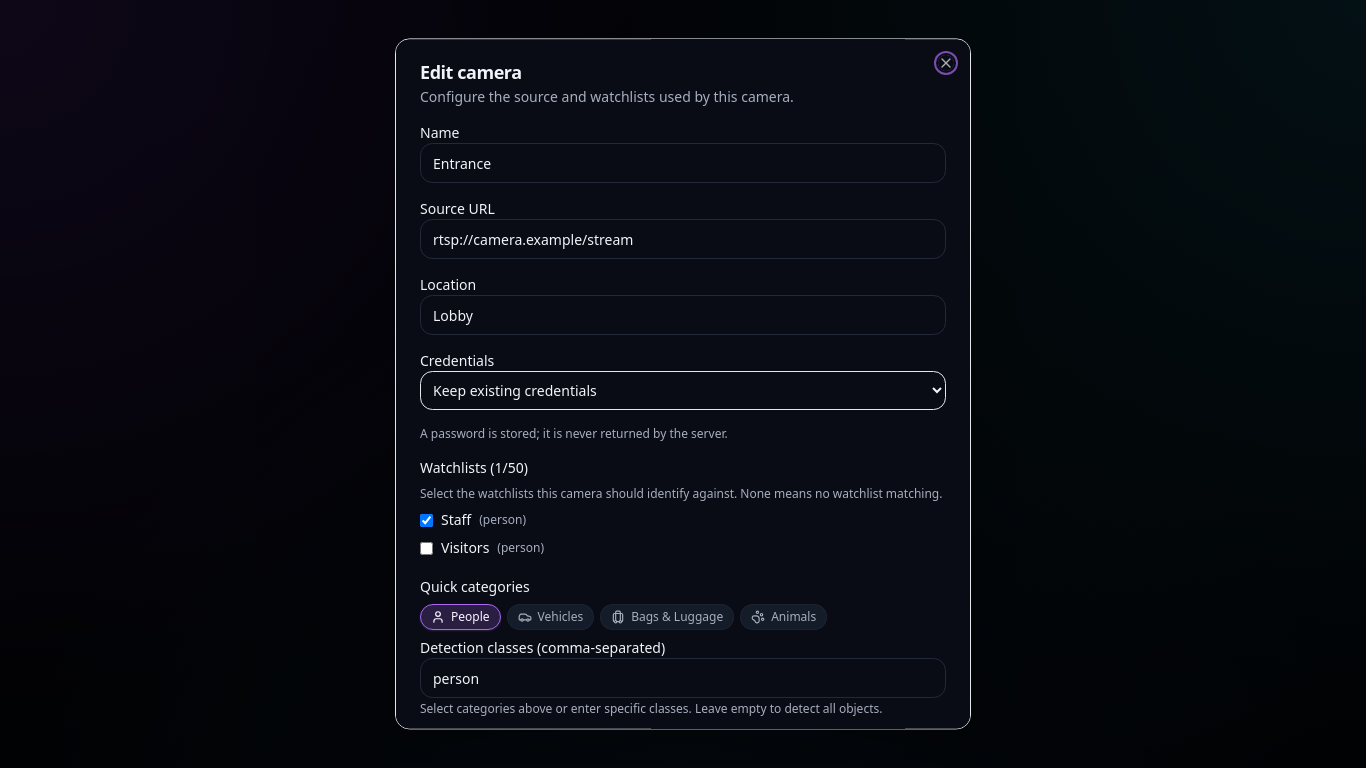
Test: rejects unsafe source file:///camera before mutation
Expected: the field labelled "Name" is shown, x1=420 y1=143 x2=946 y2=183
Replace the text in the field labelled "Source URL" with "file:///camera" at (683, 239), box x1=420 y1=219 x2=946 y2=259
(page scrolled)
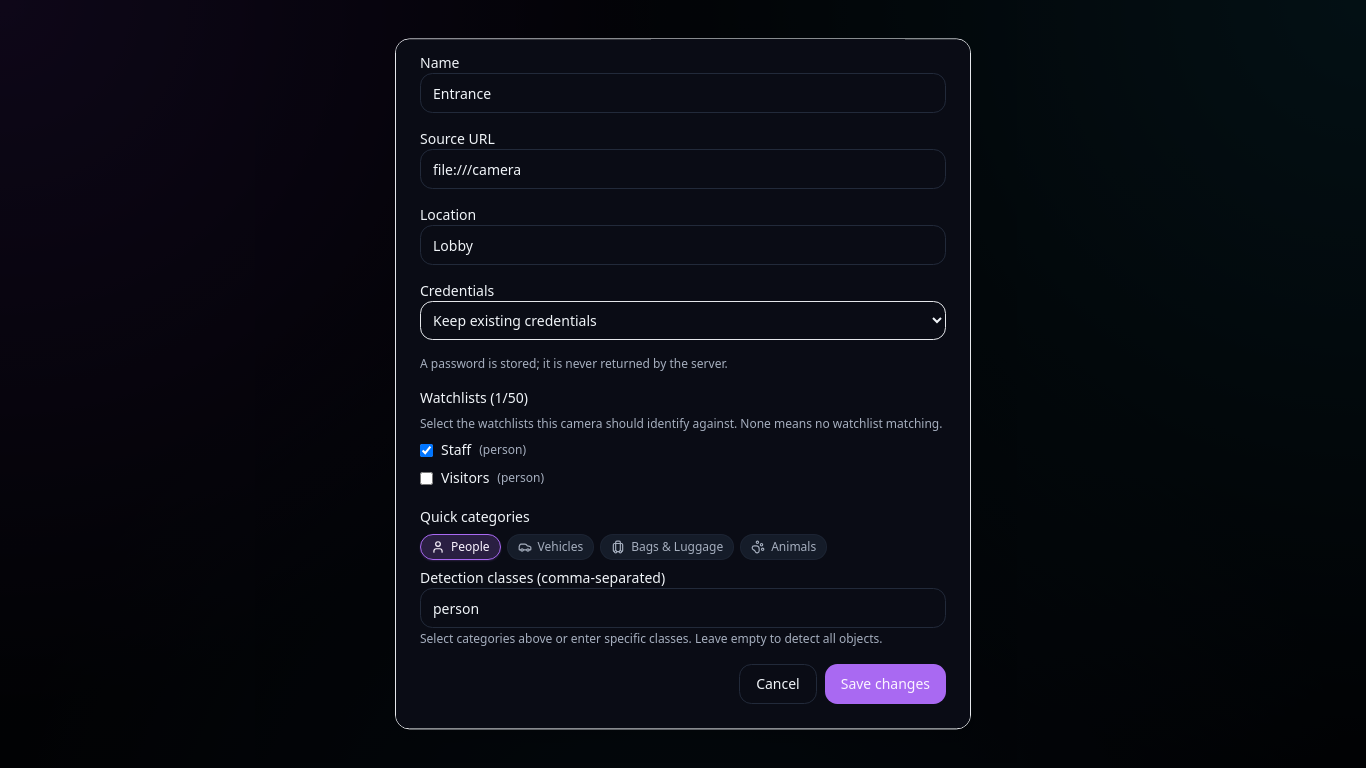
Click the button "Save changes" at (885, 684), box x1=825 y1=664 x2=946 y2=704
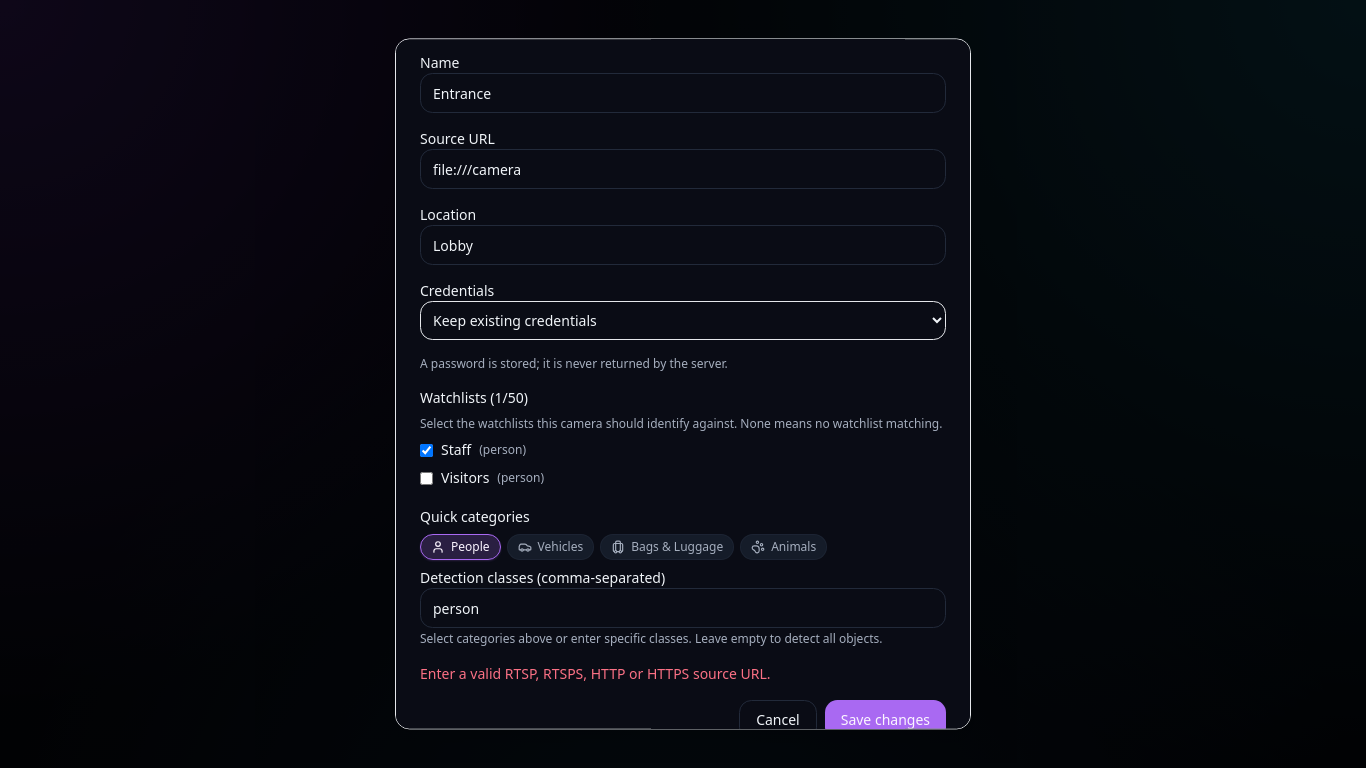
Result: the message "Enter a valid RTSP, RTSPS, HTTP or HTTPS source URL." is shown at x1=420 y1=664 x2=770 y2=683
